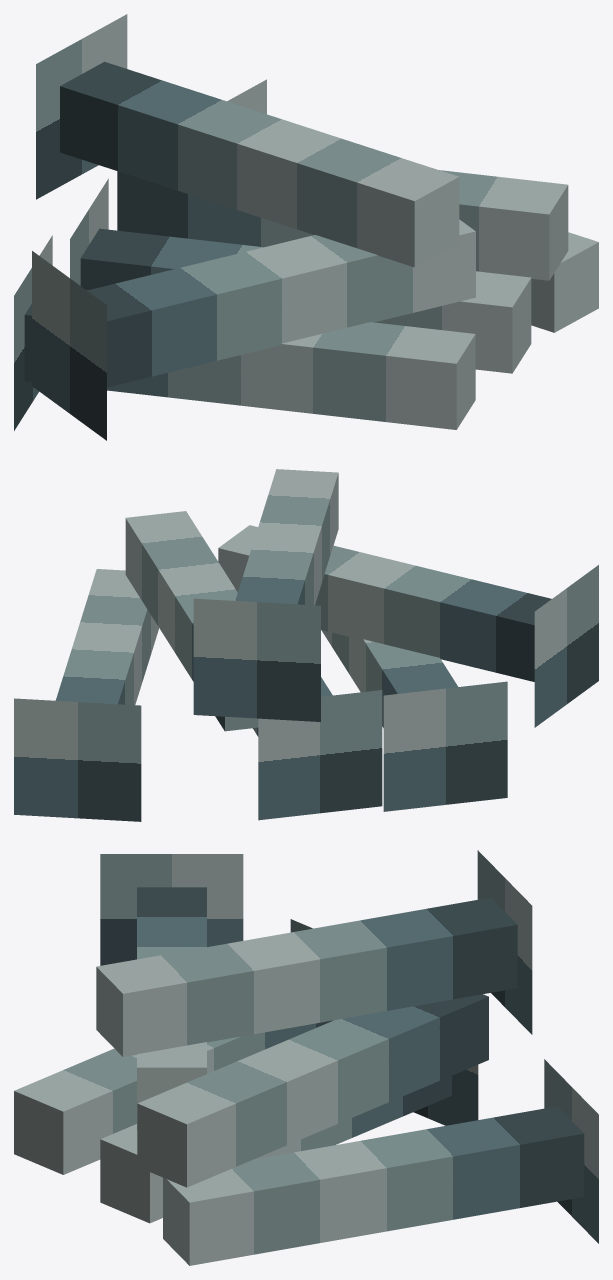
The model's file is nails.gltf.
3 renders of one model, top to bottom at view 1: azimuth 30°, elevation 25°; view 2: azimuth 150°, elevation 25°; view 3: azimuth 270°, elevation 25°, orthographic. The views are drawn at different scales.
Visible parts, largest first — view 1: octagon (×11); view 2: octagon (×10); view 3: octagon (×10).
Part boxes in pixels (x1,y1,x2,y2): octagon (×11): (14, 14, 598, 440); octagon (×10): (14, 469, 598, 821); octagon (×10): (14, 850, 598, 1265).
Size of the model in its own units: 0.5196 by 0.248 by 0.5116.
1 material, 1 textured.
